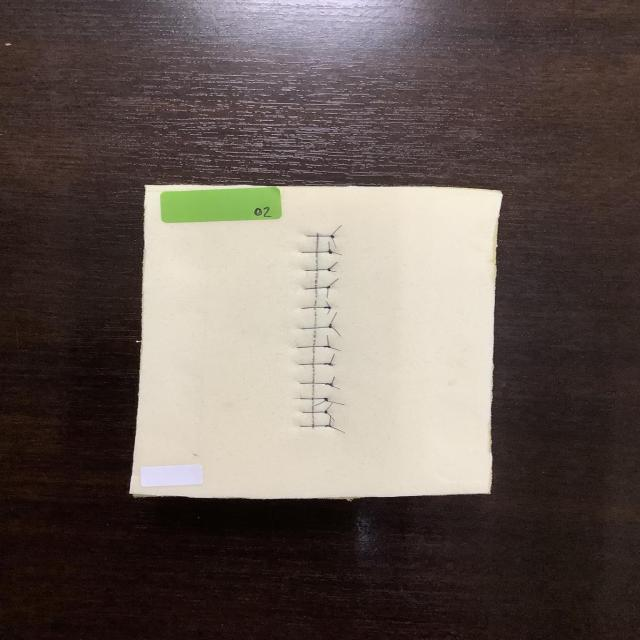knot: (321, 361, 336, 368), (323, 381, 336, 389), (326, 247, 335, 256), (326, 322, 335, 330), (321, 344, 333, 350), (322, 305, 334, 311), (321, 396, 331, 403), (323, 423, 334, 429), (328, 233, 337, 240), (324, 284, 333, 291), (322, 409, 330, 416), (325, 267, 333, 273)
leftover: (330, 224, 343, 237), (329, 325, 342, 337), (327, 277, 340, 288), (329, 426, 346, 434), (324, 411, 336, 422), (312, 399, 328, 407), (329, 311, 338, 325), (327, 261, 339, 271), (326, 400, 346, 406), (324, 402, 333, 413), (330, 235, 337, 248), (329, 346, 342, 352), (329, 353, 335, 365), (329, 376, 336, 386), (330, 251, 343, 256), (324, 300, 331, 309), (326, 268, 338, 273), (326, 334, 330, 347), (327, 240, 331, 253), (328, 414, 332, 427), (325, 286, 329, 299), (332, 385, 341, 390), (326, 307, 331, 315), (331, 363, 336, 365)
stitch: (300, 323, 332, 330), (298, 382, 334, 387), (298, 397, 329, 402), (295, 345, 331, 349), (298, 363, 334, 366), (304, 286, 331, 290), (300, 250, 333, 253), (299, 425, 332, 428), (300, 306, 332, 309), (304, 268, 332, 271), (306, 235, 335, 237), (301, 411, 328, 413)
wound: (311, 233, 319, 429)
